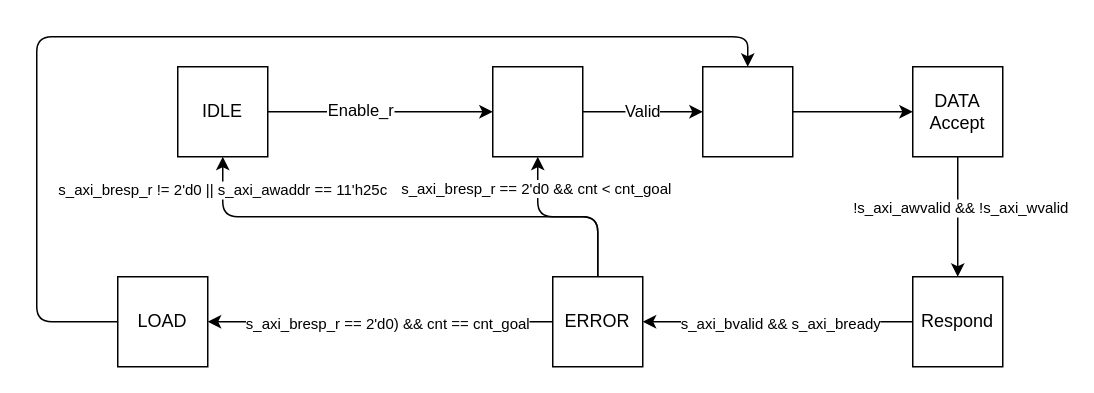
Some shapes in this 1094 by 393 pixel diagram are drawn without their labels. Here are the shapes that lost their labels. From the top down, the box of each, then its label:
(491, 65, 583, 157): START
(701, 65, 793, 157): WRITE
